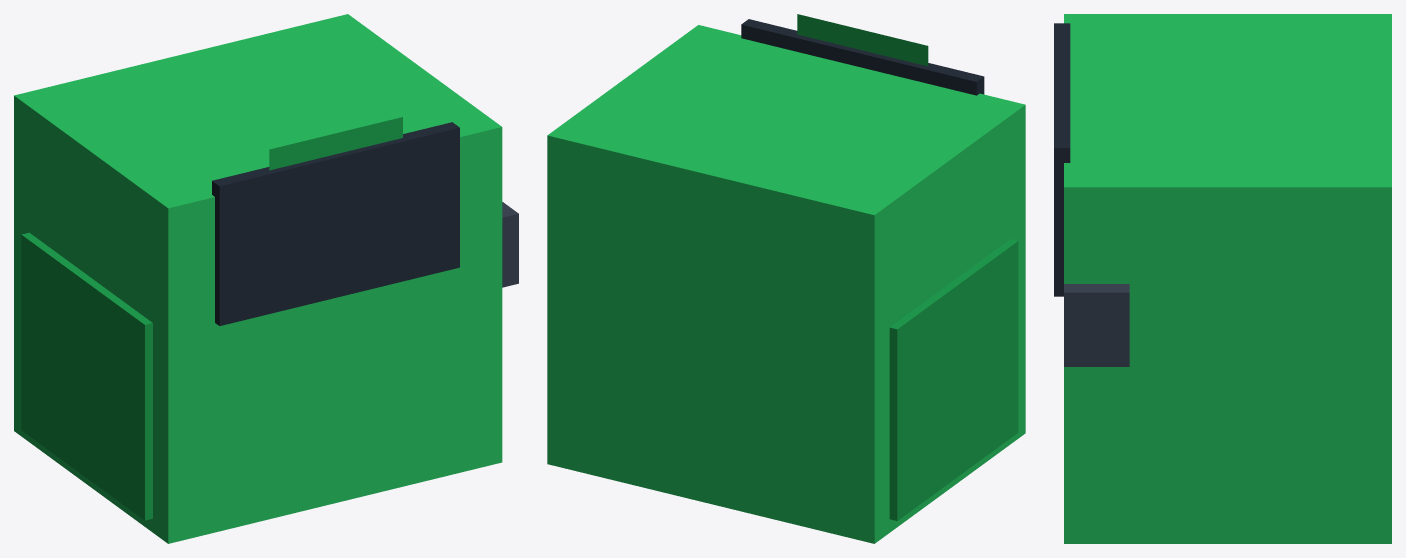
File: yard-compactor-body-authored-atlas.glb
The picture shows the model from 3 angles, left to right: view 1: azimuth 30°, elevation 25°; view 2: azimuth 150°, elevation 25°; view 3: azimuth 270°, elevation 25°; orthographic projection. The views are drawn at different scales.
Visible parts, largest first — view 1: Authored surface.024; view 2: Authored surface.024; view 3: Authored surface.024.
Boxes of the visible parts, x1,y1,x2,y2 form: Authored surface.024: (14,14,518,543); Authored surface.024: (547,14,1025,543); Authored surface.024: (1054,14,1391,543).
Bounding box in the file's own units: 2.68 × 2.65 × 2.06.
1 material, 1 textured.
